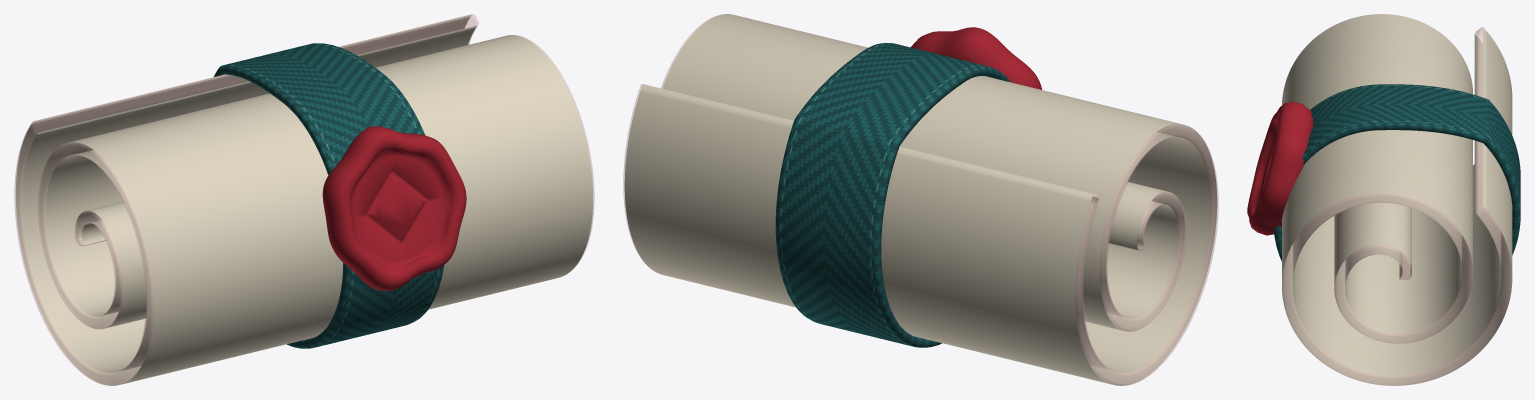
File: secret-version.glb
The picture shows the model from 3 angles, left to right: view 1: azimuth 30°, elevation 25°; view 2: azimuth 150°, elevation 25°; view 3: azimuth 270°, elevation 25°; orthographic projection. The views are drawn at different scales.
Visible parts, largest first — view 1: Continuous rolled manuscript, Wax seal with diamond impression, Wide teal binding; view 2: Continuous rolled manuscript, Wide teal binding, Wax seal with diamond impression; view 3: Continuous rolled manuscript, Wide teal binding, Wax seal with diamond impression.
Boxes of the visible parts, x1=… form: Continuous rolled manuscript: x1=14, y1=14, x2=594, y2=385; Wax seal with diamond impression: x1=322, y1=126, x2=466, y2=290; Wide teal binding: x1=214, y1=43, x2=444, y2=348; Continuous rolled manuscript: x1=623, y1=14, x2=1218, y2=385; Wide teal binding: x1=775, y1=43, x2=1010, y2=347; Wax seal with diamond impression: x1=911, y1=27, x2=1042, y2=89; Continuous rolled manuscript: x1=1282, y1=14, x2=1512, y2=385; Wide teal binding: x1=1274, y1=84, x2=1520, y2=261; Wax seal with diamond impression: x1=1247, y1=101, x2=1313, y2=235.
Bounding box in the file's own units: 3.8 × 2.04 × 2.43.
4 materials, 1 textured.
